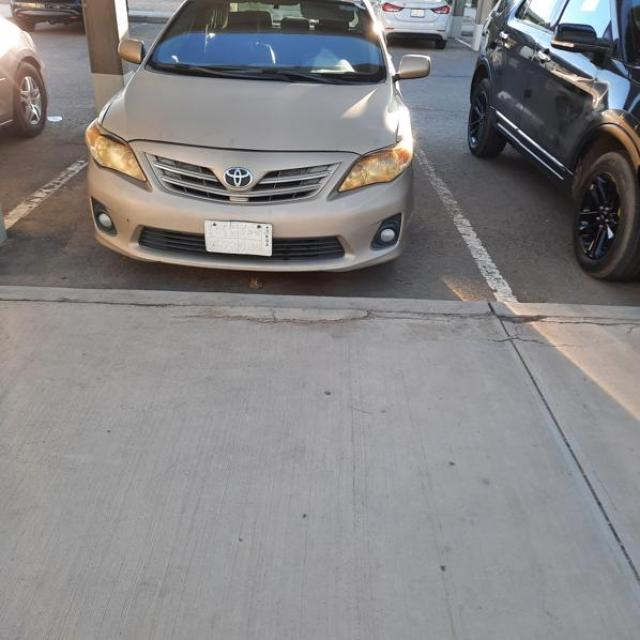license_plate: (204, 220, 271, 257)
